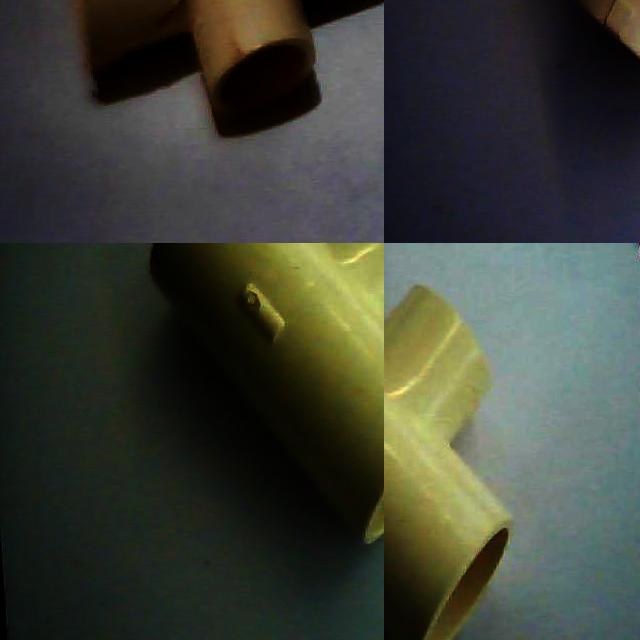Defective: (76, 0, 210, 66)
T Joint: (148, 243, 384, 547), (384, 286, 512, 640), (83, 0, 315, 130)
